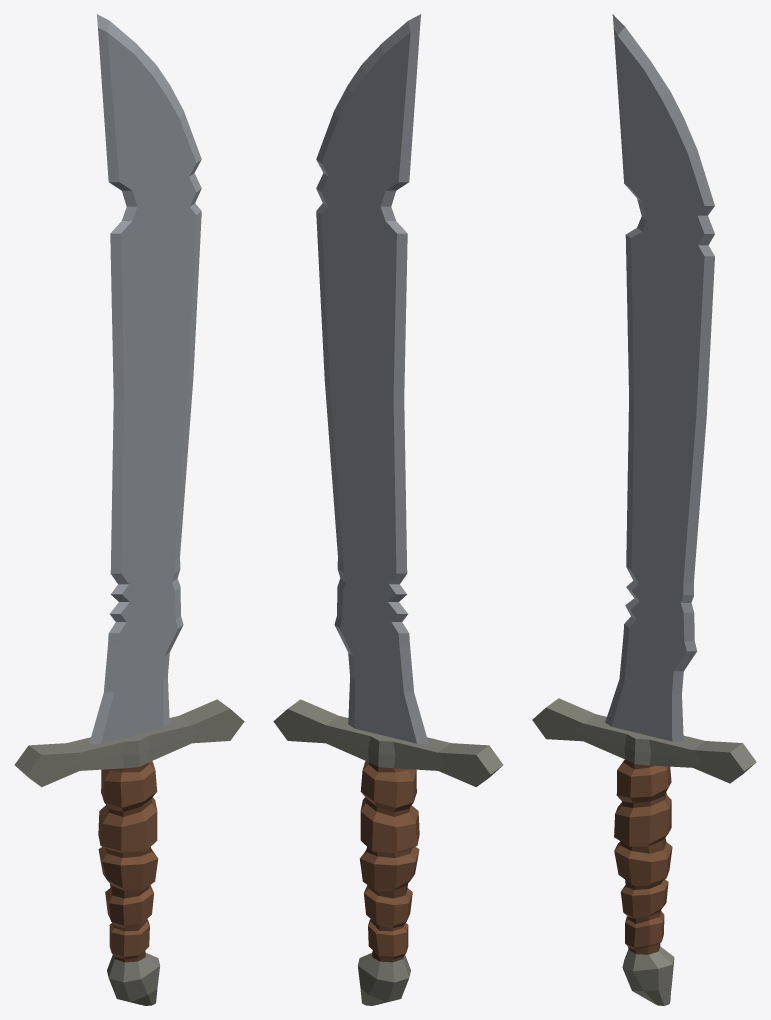
Rendered from Sword_2.gltf.
The picture shows the model from 3 angles, left to right: view 1: azimuth 30°, elevation 25°; view 2: azimuth 150°, elevation 25°; view 3: azimuth 330°, elevation 25°; orthographic projection. The views are drawn at different scales.
Visible parts, largest first — view 1: Sword_2; view 2: Sword_2; view 3: Sword_2.
Boxes of the visible parts, x1=… form: Sword_2: x1=14, y1=14, x2=244, y2=1005; Sword_2: x1=273, y1=14, x2=503, y2=1005; Sword_2: x1=532, y1=14, x2=756, y2=1005.
Size of the model in its own units: 1.22 by 5.36 by 0.3104.
